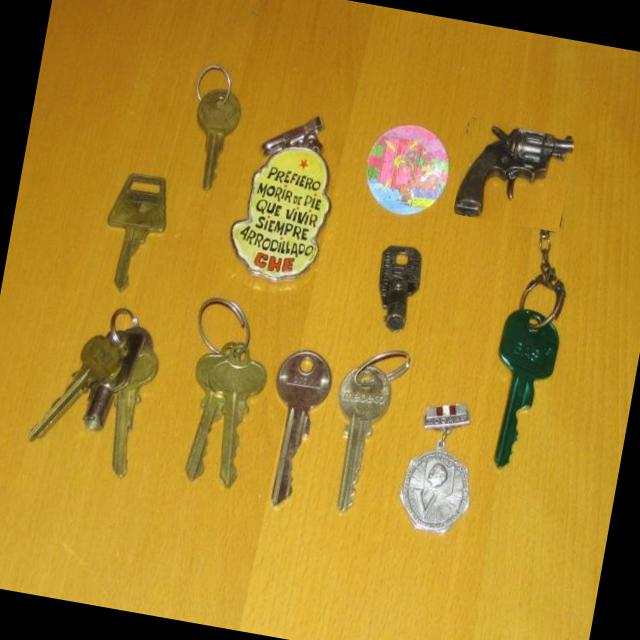Gun: (454, 126, 574, 217)
